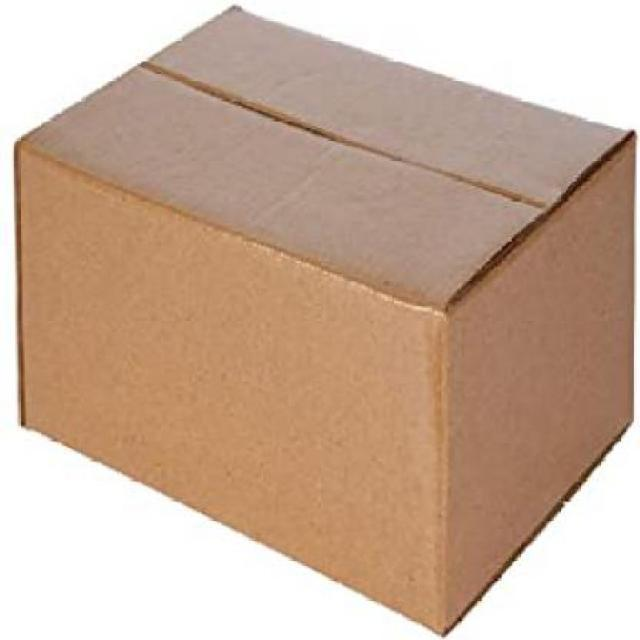box: (13, 0, 632, 638)
